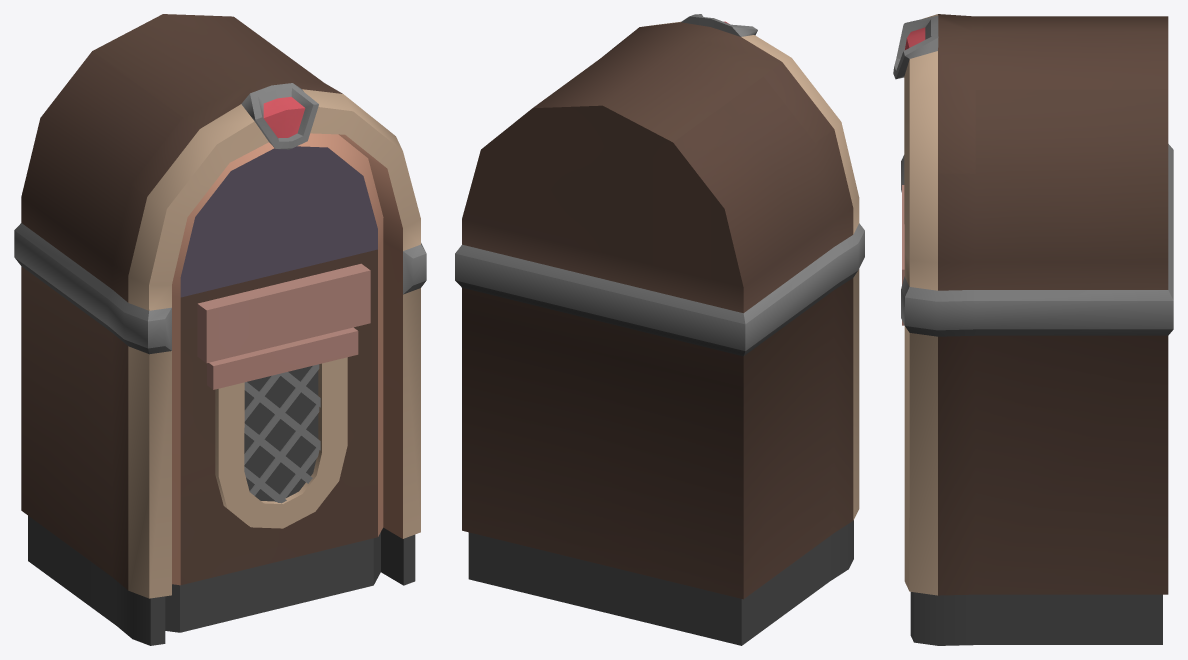
Rendered from jukebox.fbx.
The picture shows the model from 3 angles, left to right: view 1: azimuth 30°, elevation 25°; view 2: azimuth 150°, elevation 25°; view 3: azimuth 270°, elevation 25°; orthographic projection. The views are drawn at different scales.
Parts seen in each view (by area): view 1: jukebox; view 2: jukebox; view 3: jukebox.
Boxes of the visible parts, <box> form: jukebox: <box>14,14,426,645</box>; jukebox: <box>455,14,864,645</box>; jukebox: <box>893,14,1173,645</box>.
Bounding box in the file's own units: 45.96 × 77.17 × 35.63.
